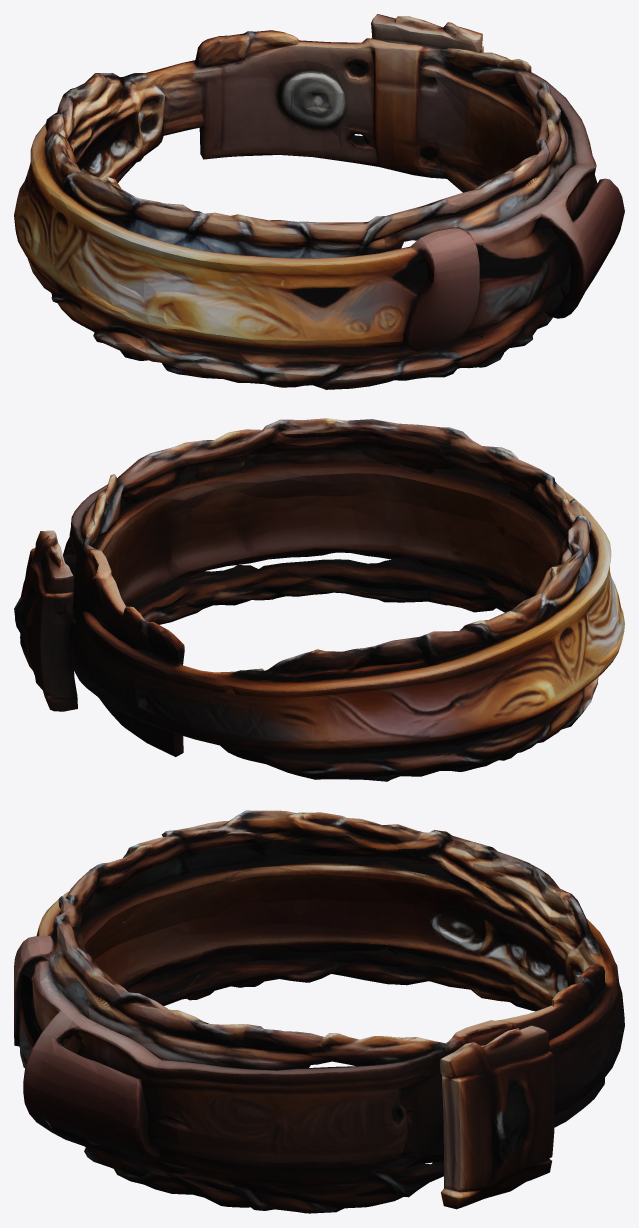
Rendered from leather-cuff-bracelet-rustic.jpeg.glb.
3 views of the same model, one above another, from view 1: azimuth 30°, elevation 25°; view 2: azimuth 150°, elevation 25°; view 3: azimuth 270°, elevation 25° (orthographic). The views are drawn at different scales.
Visible parts, largest first — view 1: world; view 2: world; view 3: world.
Boxes of the visible parts, x1,y1,x2,y2 form: world: (14,14,624,389); world: (14,418,624,781); world: (14,810,624,1213).
Bounding box in the file's own units: 1 × 0.3421 × 0.9969.
Materials: 1 (1 with a texture image).
